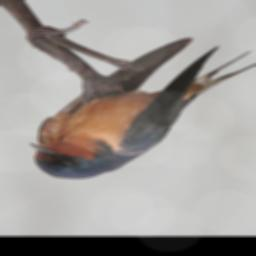Swallow: (27, 38, 256, 181)
